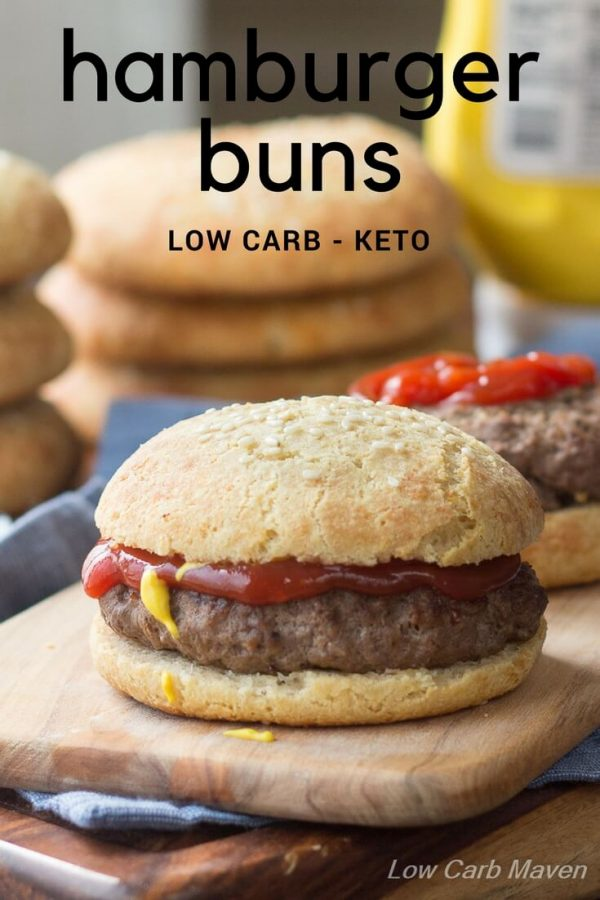hamburger_buns: (112, 378, 550, 706)
